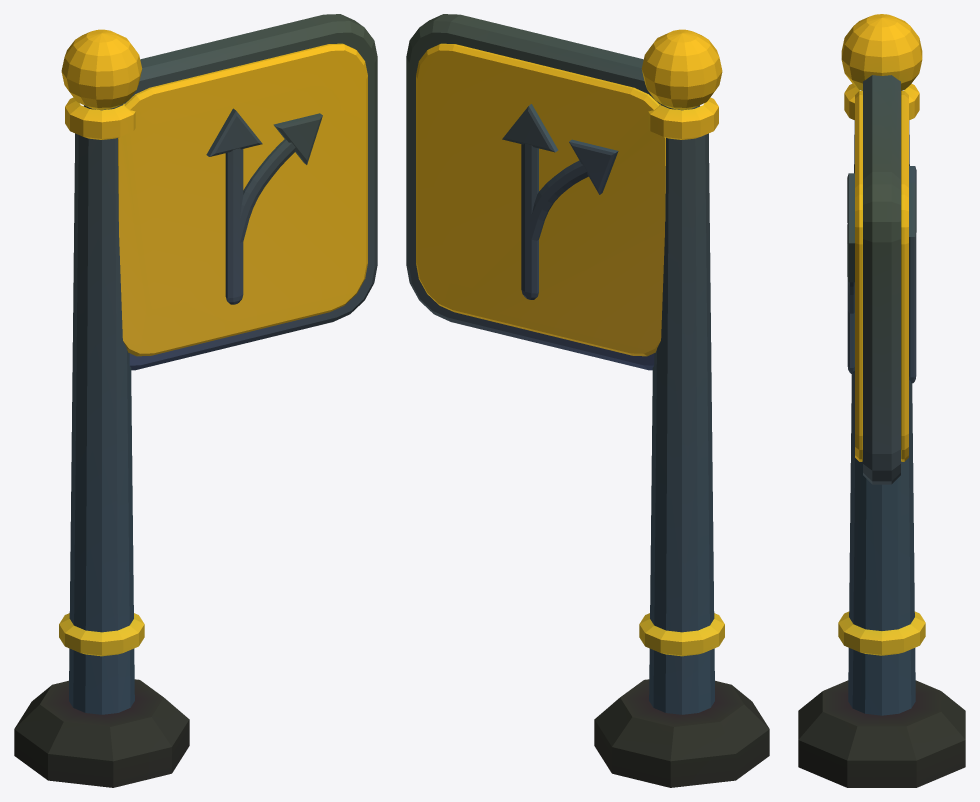
Rendered from Service_SwitchMarker.glb.
3 renders of one model, left to right at view 1: azimuth 30°, elevation 25°; view 2: azimuth 150°, elevation 25°; view 3: azimuth 270°, elevation 25°, orthographic. The views are drawn at different scales.
Visible parts, largest first — view 1: Service_SwitchMarker; view 2: Service_SwitchMarker; view 3: Service_SwitchMarker.
Part boxes in pixels (x1,y1,x2,y2): Service_SwitchMarker: [14, 14, 377, 787]; Service_SwitchMarker: [406, 14, 769, 787]; Service_SwitchMarker: [798, 14, 965, 787].
Size of the model in its own units: 0.5359 by 1.08 by 0.2217.
